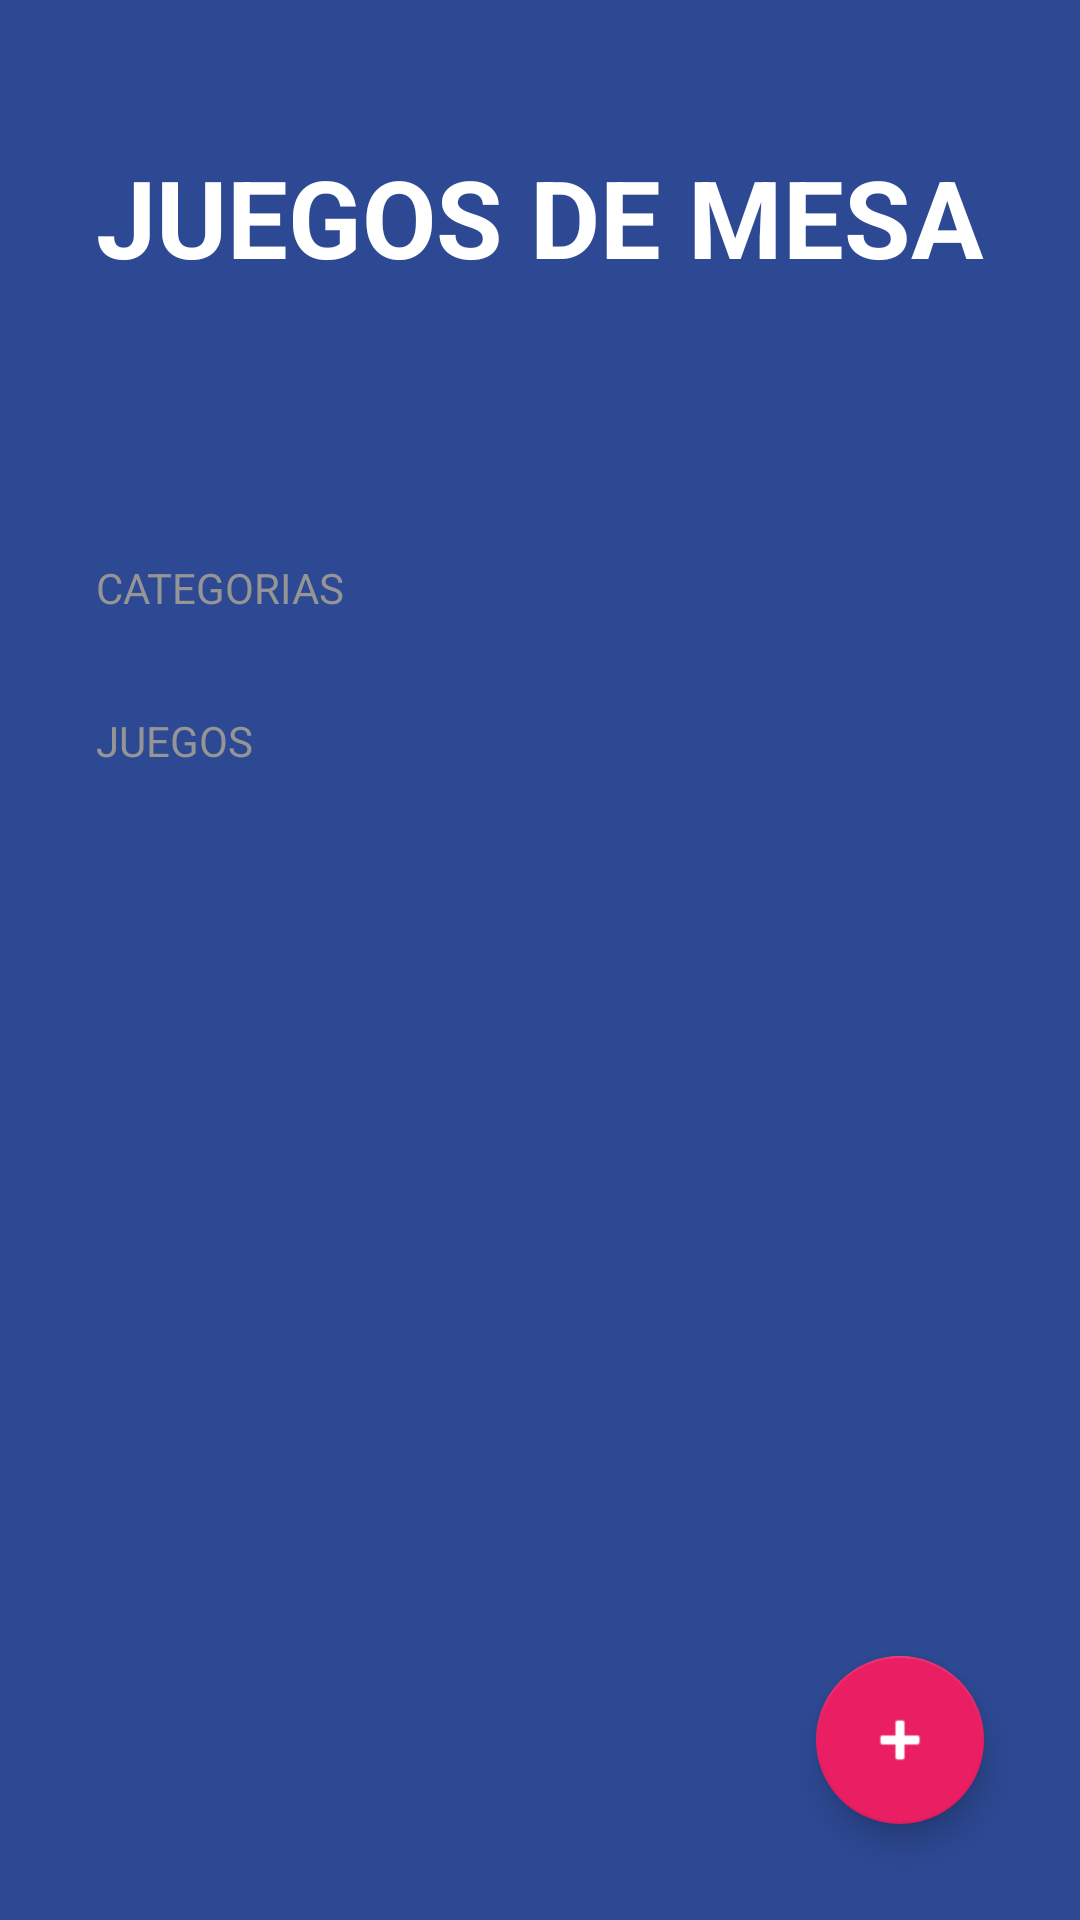

Point at icon controls on the screen. Image size 1080 x 1920, points as point (x, y).
Añade un juego: point (900, 1740)
